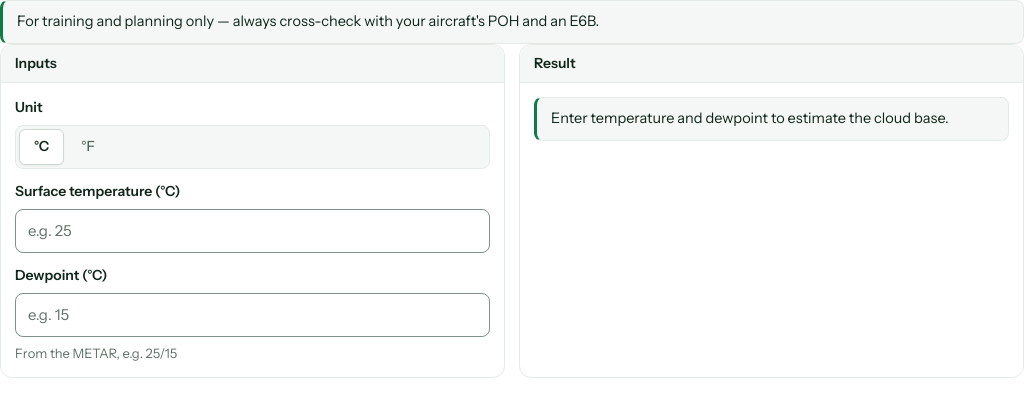
Test: CloudBaseCalculator › shows an error when dewpoint exceeds temperature
The width and height of the screenshot is (1024, 395).
In the number field with placeholder "e.g. 25": point(252, 231) [15, 208, 490, 253], type "10"
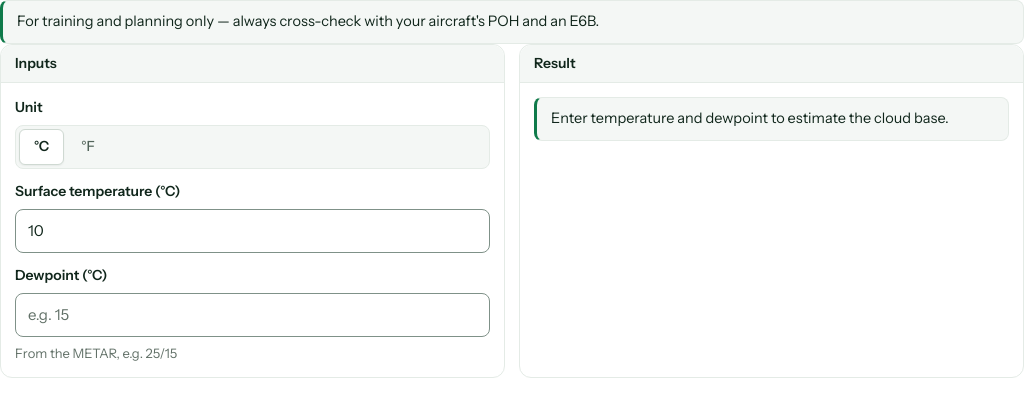
In the number field with placeholder "e.g. 15": point(252, 315) [15, 293, 490, 337], type "12"
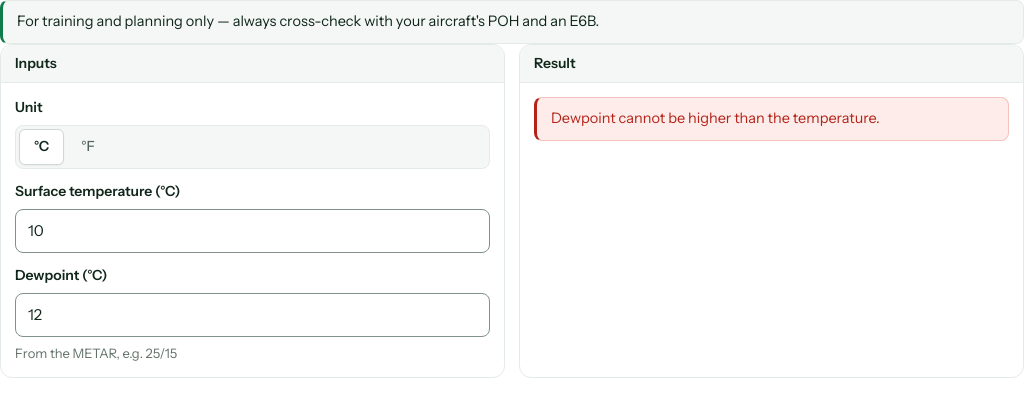
Result: the text "Dewpoint cannot be higher than the temperature." is shown at [534, 97, 1009, 141]
